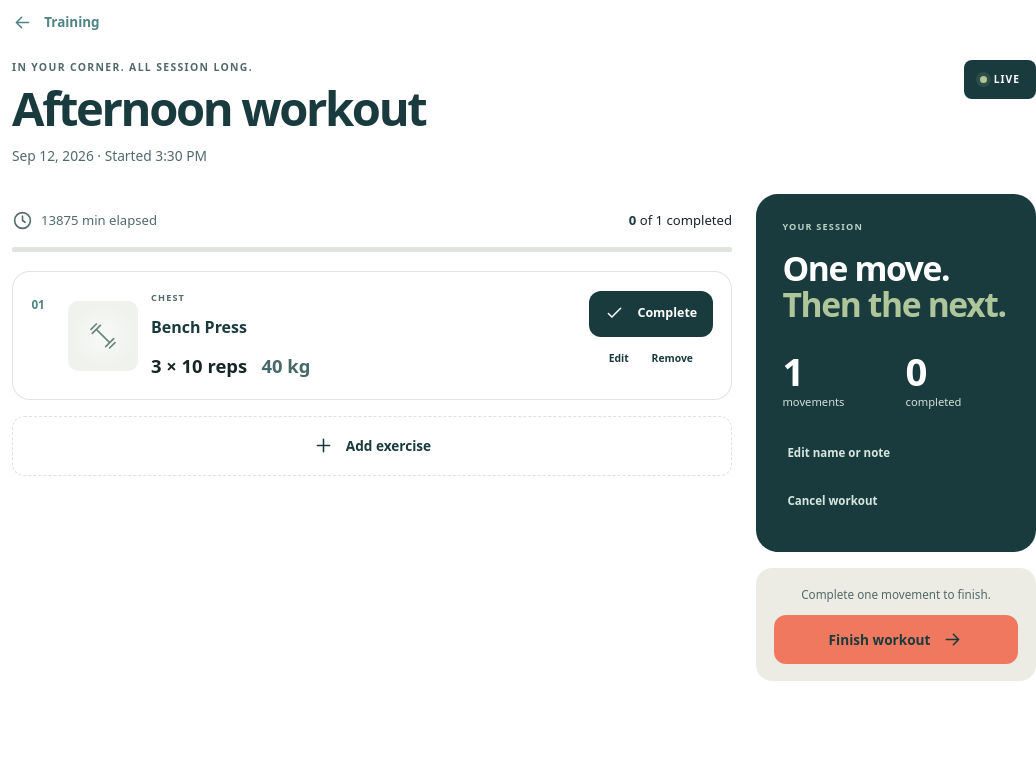
Training lifecycle › disables all mutations when a stale session has ended
Step 1. Click the button "Complete" → (651, 314), box left=589, top=291, right=713, bottom=337
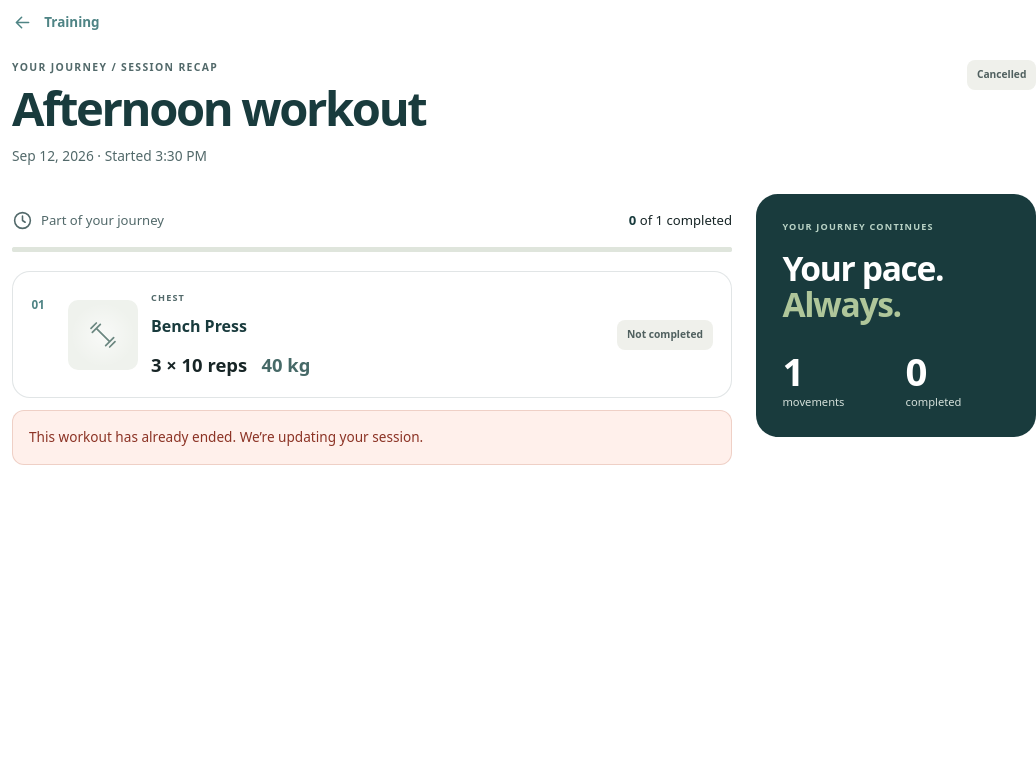
Expected: the text "Cancelled" is shown, left=967, top=60, right=1035, bottom=90
Expected: the button "Finish workout" is gone
